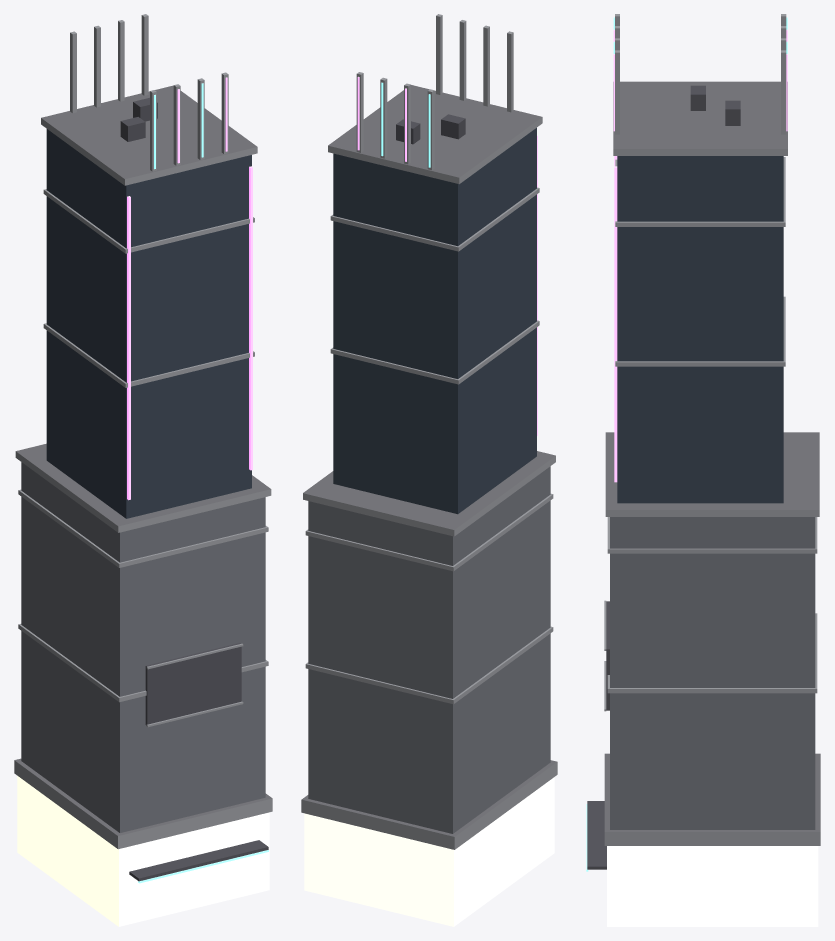
File: r1214_canti.glb
3 renders of one model, left to right at view 1: azimuth 30°, elevation 25°; view 2: azimuth 150°, elevation 25°; view 3: azimuth 270°, elevation 25°, orthographic. The views are drawn at different scales.
Visible parts, largest first — view 1: r1214_canti; view 2: r1214_canti; view 3: r1214_canti.
Part boxes in pixels (x1,y1,x2,y2): r1214_canti: (14,14,272,926); r1214_canti: (301,14,557,926); r1214_canti: (586,14,820,926).
Bounding box in the file's own units: 12.3 × 62.5 × 15.51.
